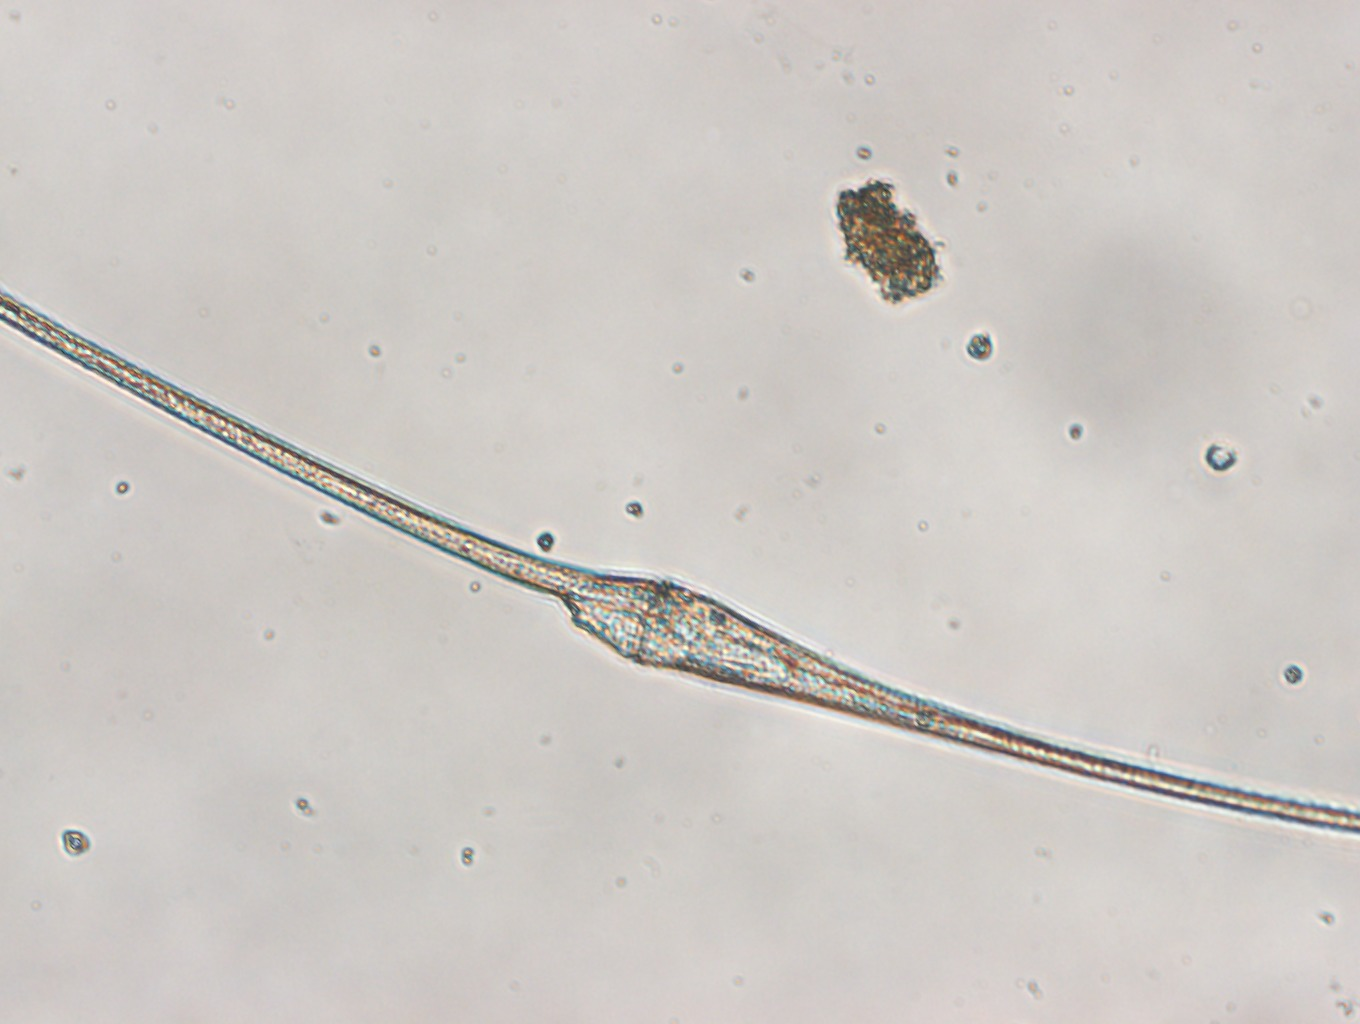ceratium fusus: (1, 285, 1360, 838)
